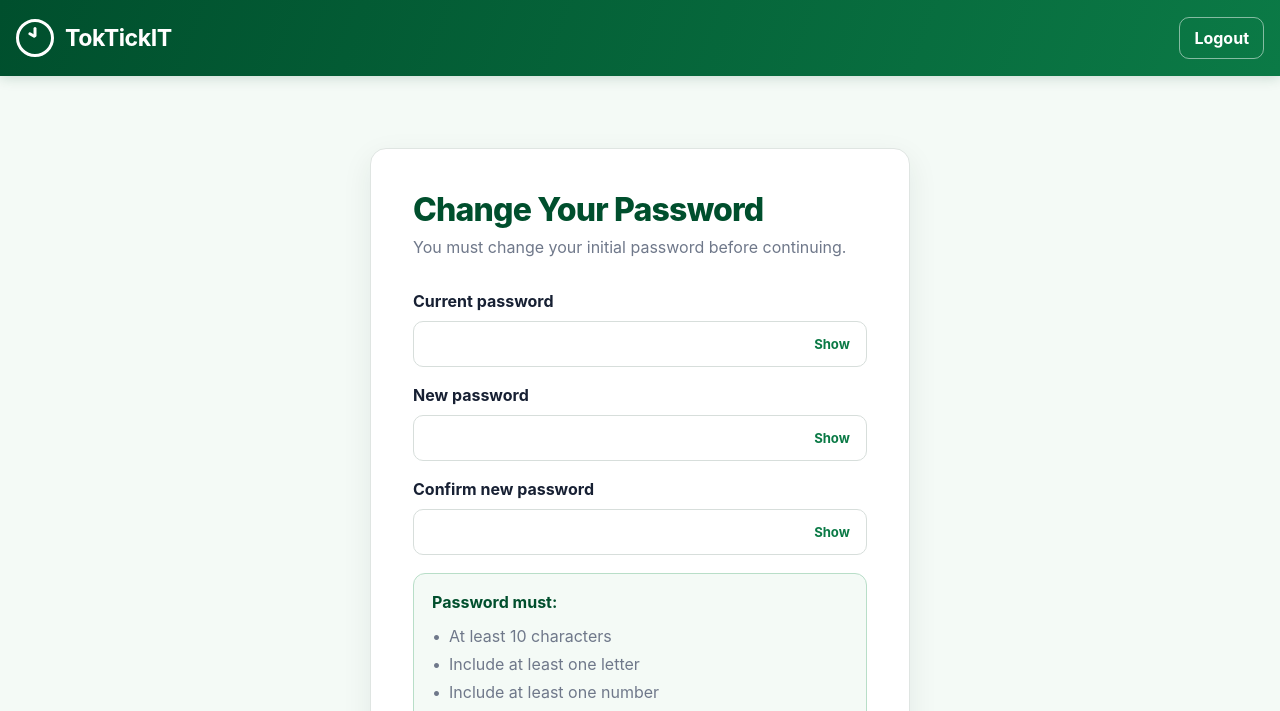
Test: Lab 3 Change Password UI › continues into the Requester app after a successful mandatory password change
Check: the heading "Change Your Password" is shown, box 413,190 -> 764,229
Step 1. Type "InitialPass1" into the password field labelled "Current password" → [640, 344], box 413,321 -> 867,367
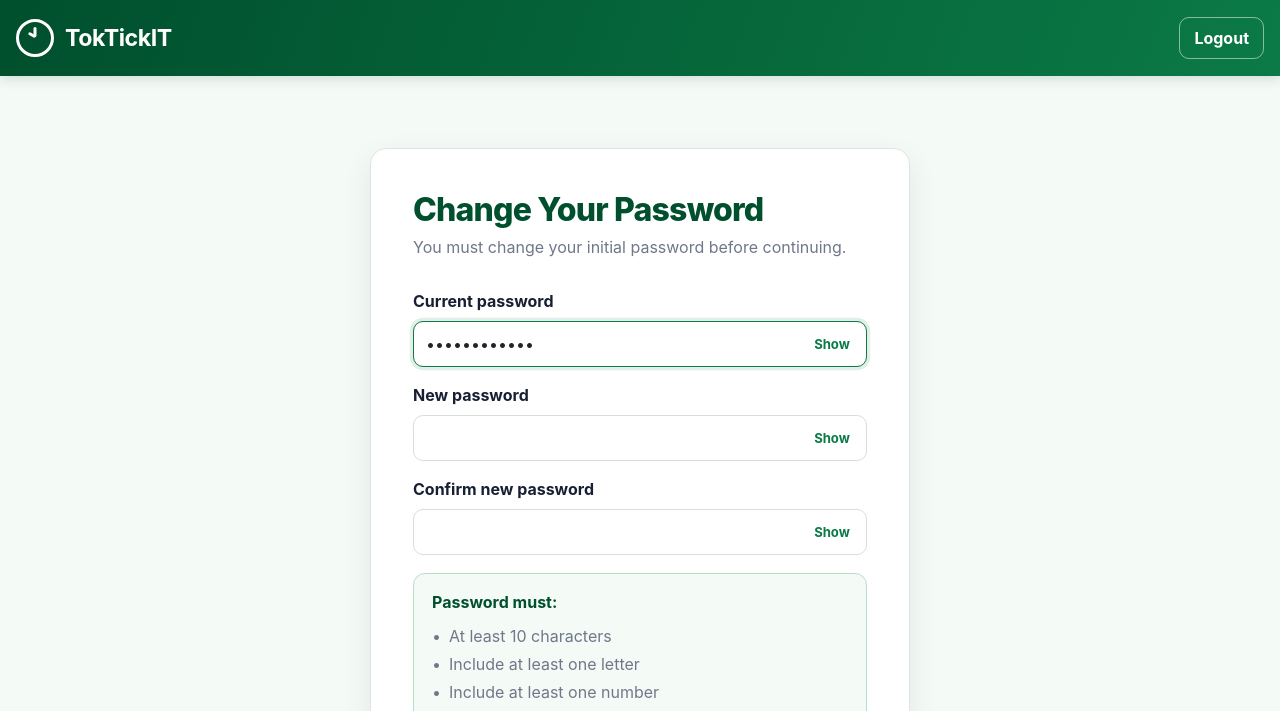
Step 2. Type "Replacement2" into the password field labelled "New password" → [640, 438], box 413,415 -> 867,461
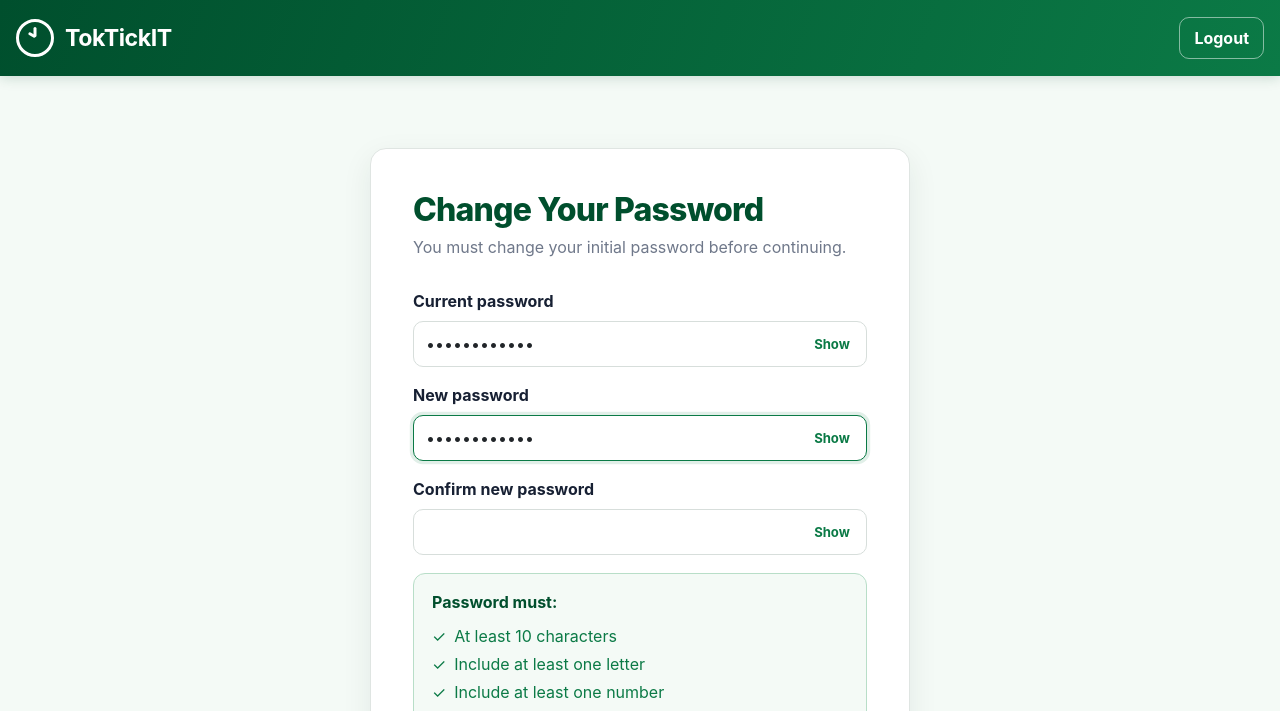
Step 3. Type "Replacement2" into the password field labelled "Confirm new password" → [640, 532], box 413,509 -> 867,555
(page scrolled)
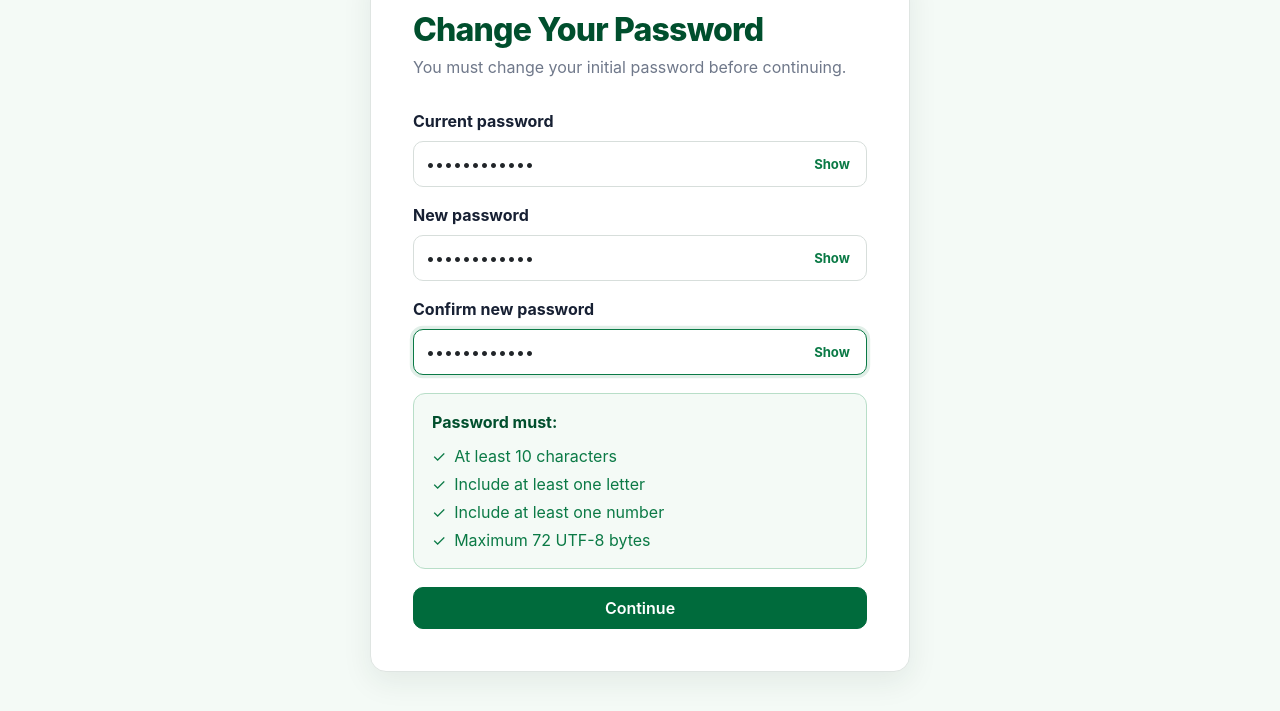
Step 4. Click the button "Continue" → [640, 608], box 413,587 -> 867,629
(page scrolled)
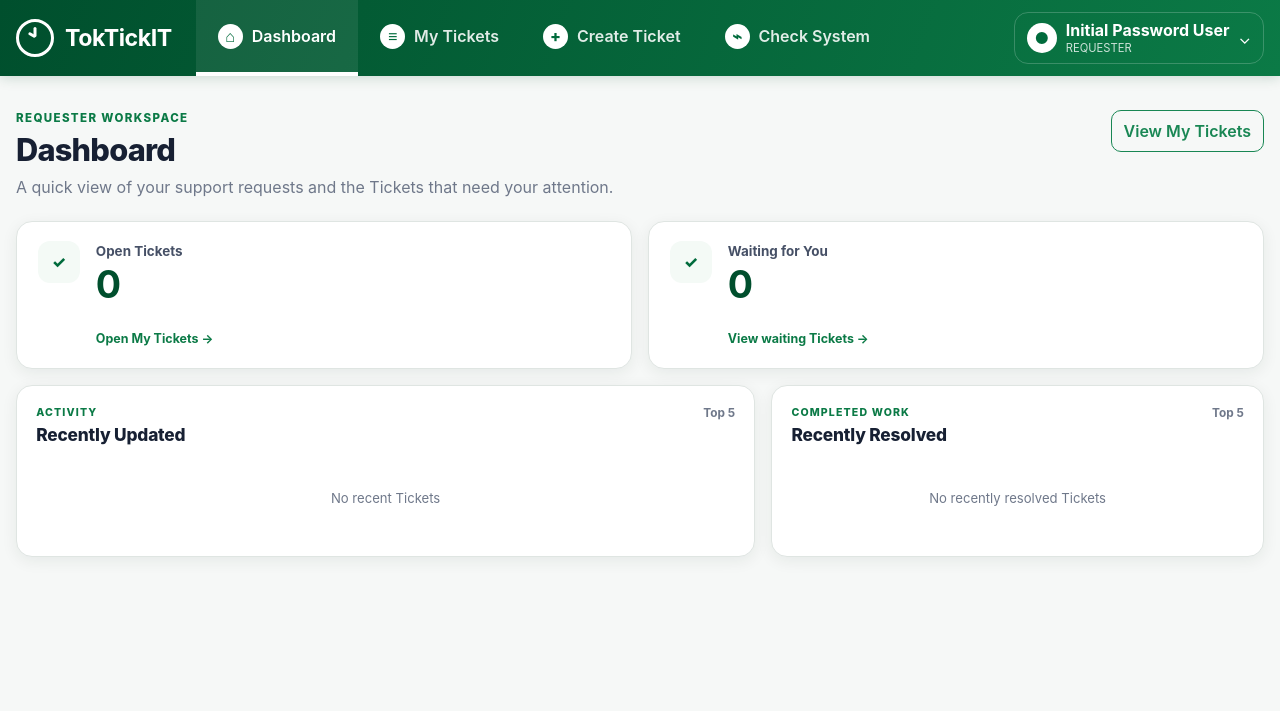
Check: the heading "Dashboard" is shown, box 16,131 -> 175,168
Check: the text "must change your initial password" is gone
